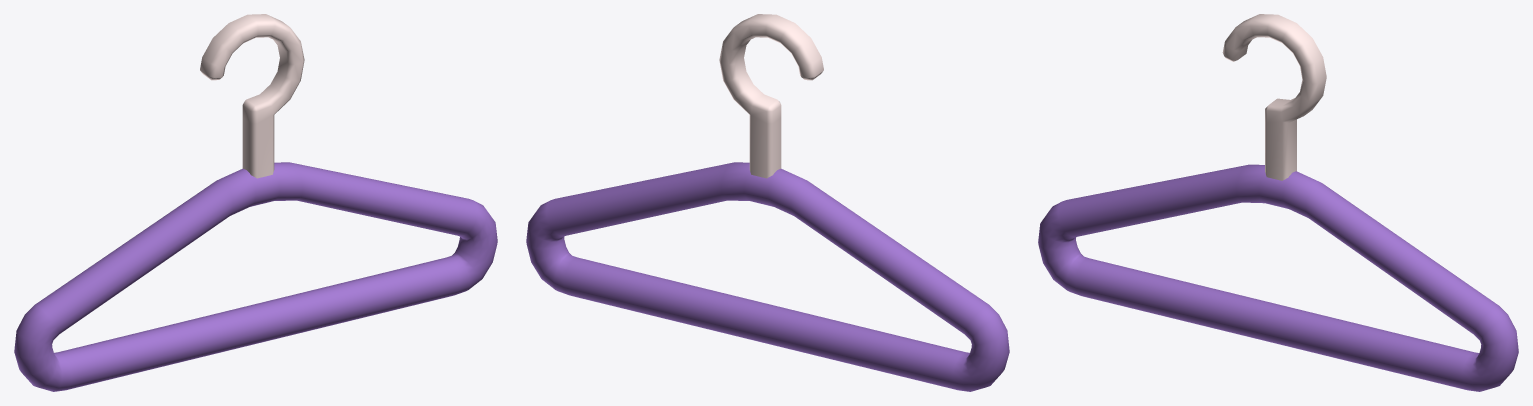
The model's file is Public_19_Clothes_hanger_2.glb.
The picture shows the model from 3 angles, left to right: view 1: azimuth 30°, elevation 25°; view 2: azimuth 150°, elevation 25°; view 3: azimuth 330°, elevation 25°; orthographic projection.
Parts seen in each view (by area): view 1: Public_19_Clothes_hanger_2; view 2: Public_19_Clothes_hanger_2; view 3: Public_19_Clothes_hanger_2.
Part boxes in pixels (left/top/right/bottom): Public_19_Clothes_hanger_2: left=14, top=14, right=497, bottom=391; Public_19_Clothes_hanger_2: left=526, top=14, right=1009, bottom=391; Public_19_Clothes_hanger_2: left=1038, top=14, right=1518, bottom=391.
Bounding box in the file's own units: 0.6304 × 0.409 × 0.0446.
1 material, 1 textured.
